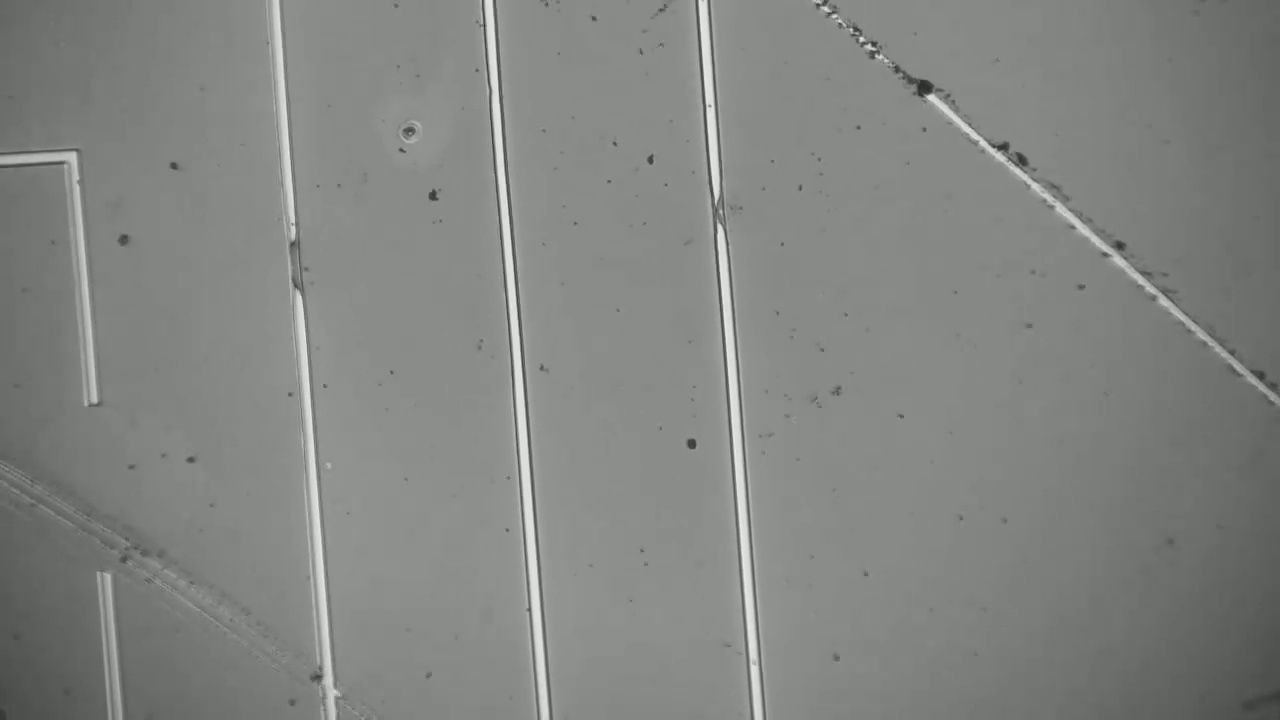gray_line: (261, 220, 320, 311), (695, 179, 734, 251)
open: (44, 353, 146, 625)
scratch: (805, 7, 1279, 422), (0, 427, 385, 715)
